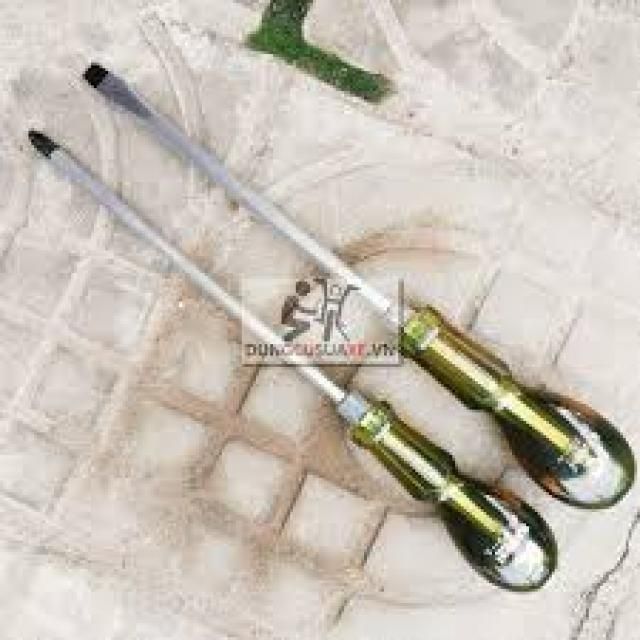screwdriver: (24, 125, 562, 595), (80, 60, 638, 512)
